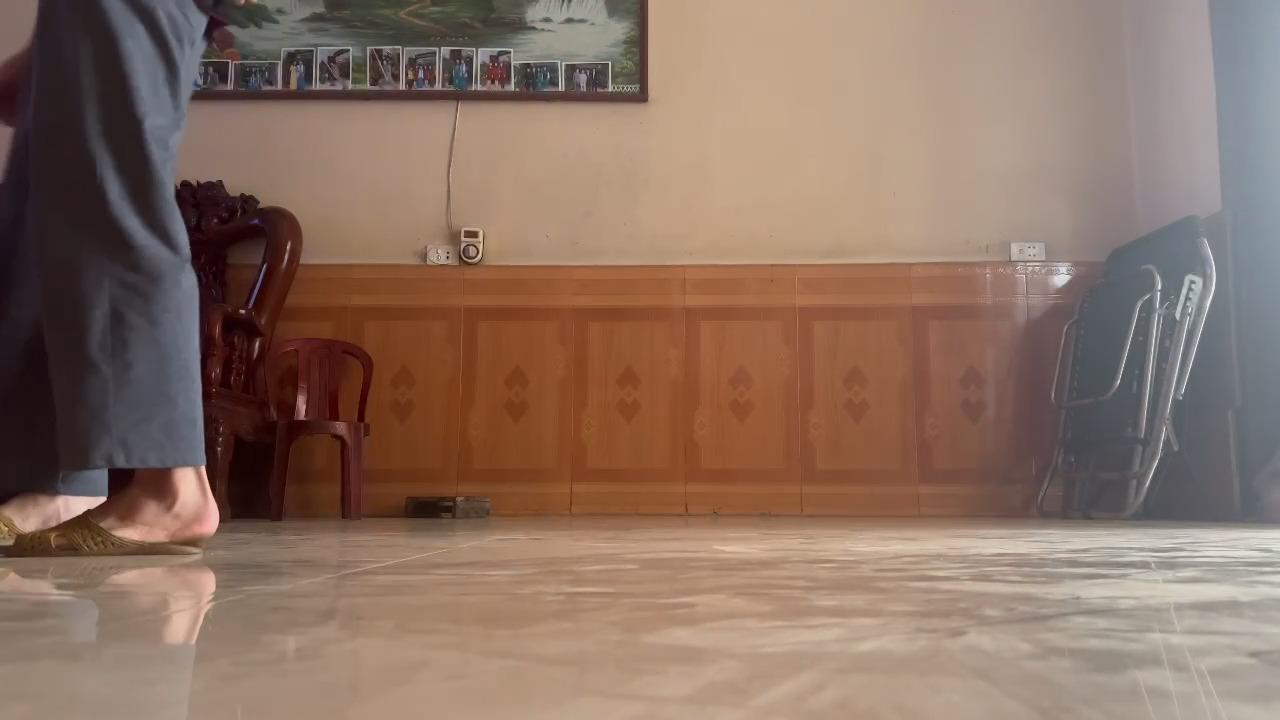no-boot: (0, 483, 235, 570)
